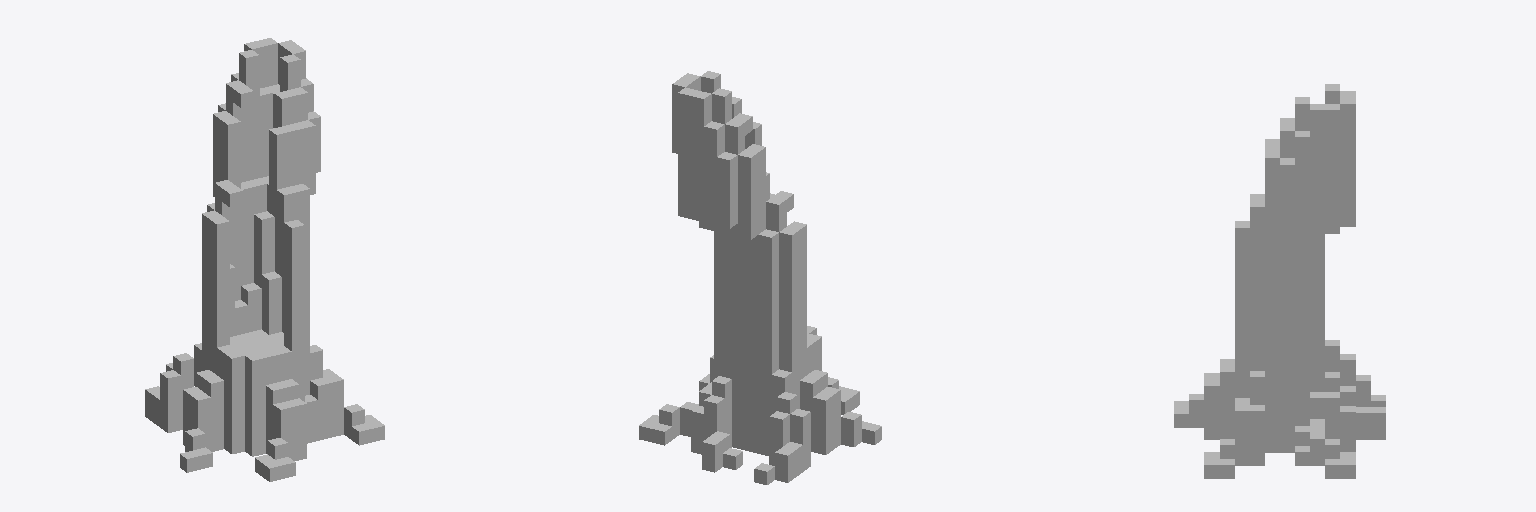
Rendered from stary pien 2.obj.
3 views of the same model, side by side, from view 1: azimuth 30°, elevation 25°; view 2: azimuth 150°, elevation 25°; view 3: azimuth 270°, elevation 25° (orthographic).
Parts seen in each view (by area): view 1: object 1; view 2: object 1; view 3: object 1.
Boxes of the visible parts, x1,y1,x2,y2 form: object 1: [145, 38, 384, 481]; object 1: [639, 71, 881, 484]; object 1: [1174, 84, 1385, 478].
Bounding box in the file's own units: 1.4 × 2.6 × 1.4.